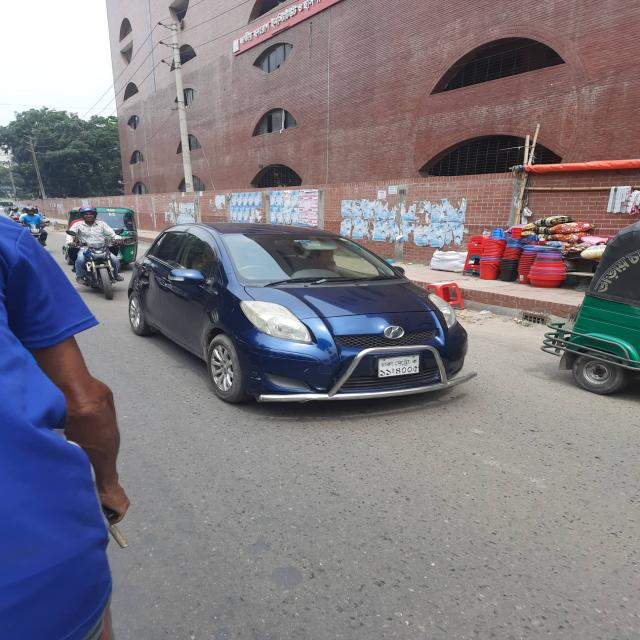Car: (131, 222, 481, 416)
Motorbike: (69, 229, 126, 301)
